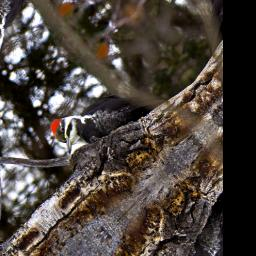Woodpecker: (43, 59, 154, 176)
